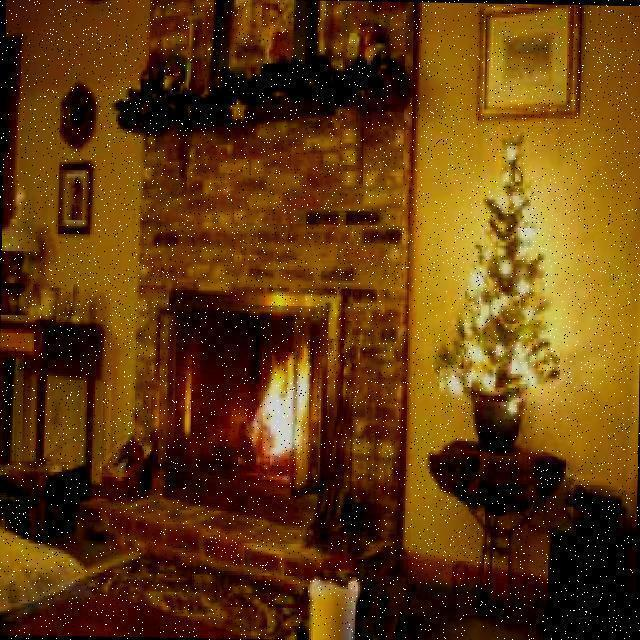Fire: (246, 346, 304, 462)
